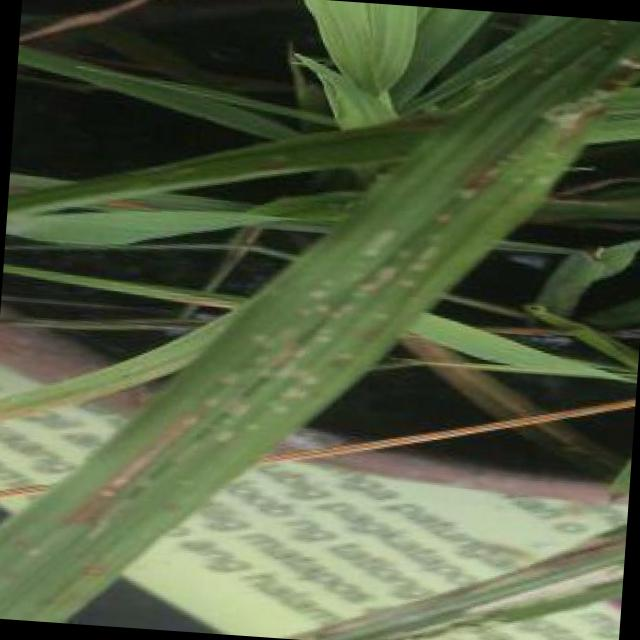Rice_Blast: (34, 373, 205, 544)
